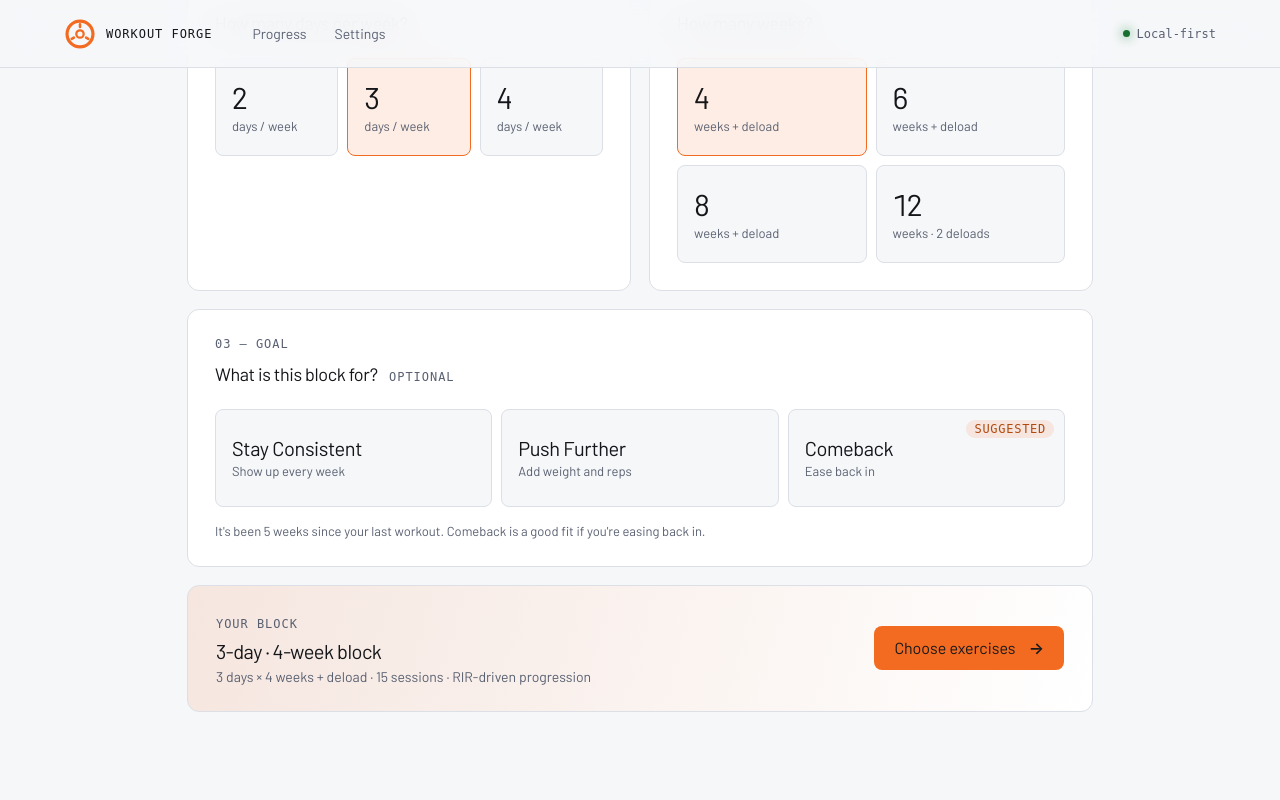
Test case: setup: the goal card › badges Comeback after 4 weeks away, says how long, and still leaves every goal unselected
(page scrolled)
Expected: the text "Suggested" is shown, 966,420 -> 1054,438
Expected: the text "It's been 5 weeks since your last workout" is shown, 215,523 -> 705,539
Click the button "Comeback Ease back in Suggested" at (849, 448), box 788,409 -> 1065,507
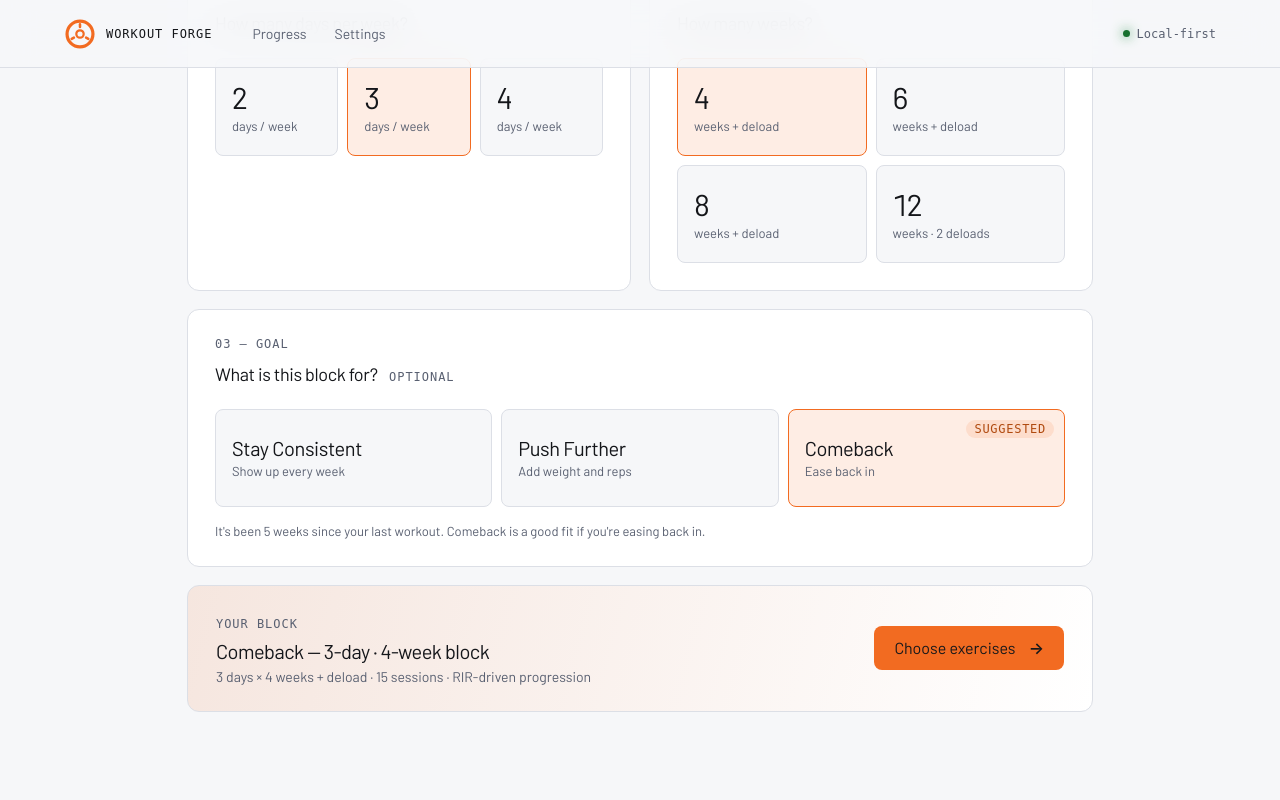
Expected: the heading "Comeback — 3-day · 4-week block" is shown, 216,639 -> 489,663
